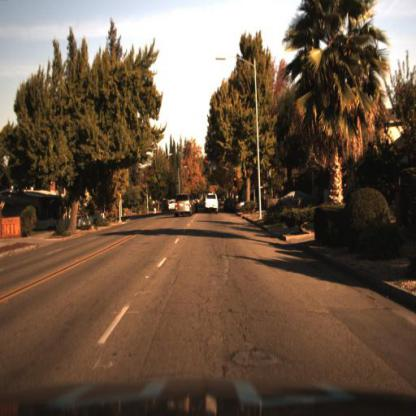car: (275, 189, 317, 210), (173, 194, 192, 217), (224, 193, 238, 218), (204, 191, 219, 214), (165, 198, 177, 212)
trafficLight-Red: (203, 154, 211, 170), (231, 174, 239, 190)
